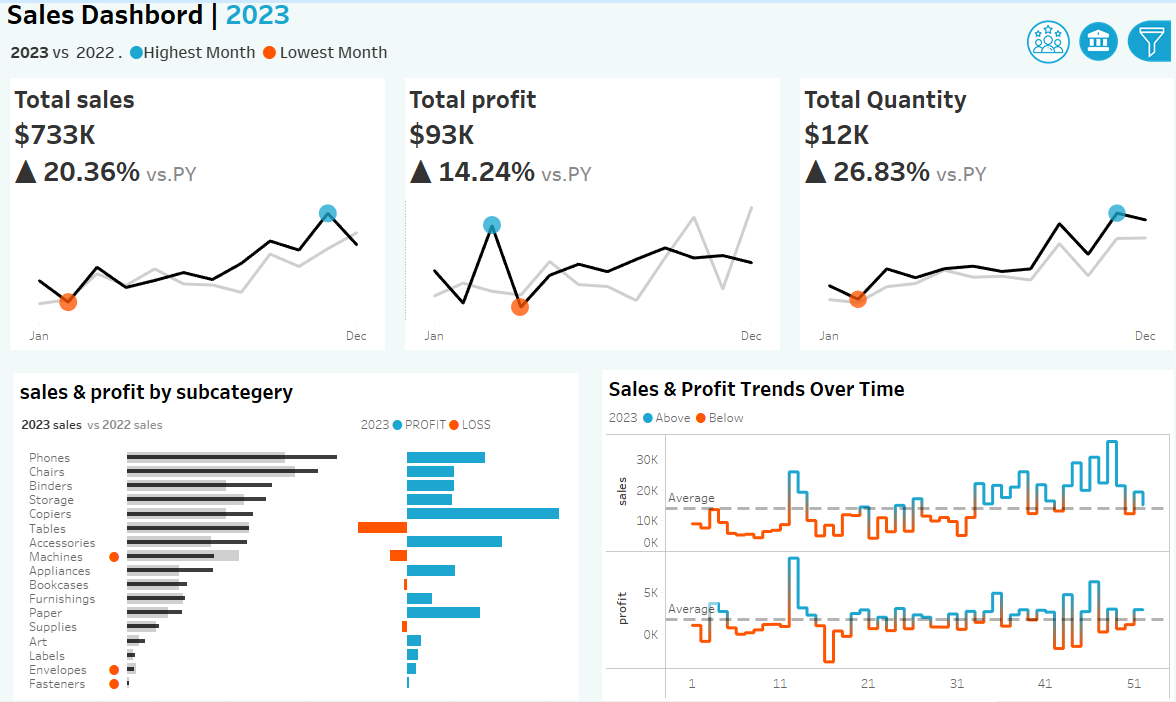

The page's visual inventory and layout, read from the dashboard file:
{"tool":"tableau","page":{"name":"sales dashbord","canvas":[1200,750],"ordinal":1},"visuals":[{"type":"text","box":[8,8,1184,41]},{"type":"dashboard-object","box":[1030,25.3,52,62.8]},{"type":"dashboard-object","box":[1082,25.3,48,62.8]},{"type":"dashboard-object","box":[1130,25.3,53,62.8]},{"type":"worksheet","title":"kpi for sub title","mark":"Automatic","box":[8,48.5,1184,34.9]},{"type":"worksheet","title":"kpi sales","mark":"Automatic","rows":["Calculation_1100285736253186052"],"cols":["Order Date"],"box":[8,83,395,292]},{"type":"worksheet","title":"kpi profit","mark":"Line","rows":["min/max sales (copy)_1100285736272588811"],"cols":["Order Date"],"box":[403,83,395,292]},{"type":"worksheet","title":"kpi quantity","mark":"Line","rows":["min/max sales (copy)_354377048314789896"],"cols":["Order Date"],"box":[798,83,394,292]},{"type":"parameter","param":"[Parameters].[Parameter 1]","box":[1000,96.6,192,52]},{"type":"filter","title":"kpi sales","param":"[federated.1z0qqhl03mdd3e151hpz61c4dv0s].[none:Sub-Category:nk]","box":[1000,148.6,192,52]},{"type":"filter","title":"kpi sales","param":"[federated.1z0qqhl03mdd3e151hpz61c4dv0s].[none:Region:nk]","box":[1000,200.6,192,52]},{"type":"filter","title":"kpi sales","param":"[federated.1z0qqhl03mdd3e151hpz61c4dv0s].[none:State:nk]","box":[1000,252.6,192,52]},{"type":"filter","title":"kpi sales","param":"[federated.1z0qqhl03mdd3e151hpz61c4dv0s].[none:City:nk]","box":[1000,304.6,192,52]},{"type":"filter","title":"weekly trends","param":"[federated.1z0qqhl03mdd3e151hpz61c4dv0s].[none:Category:nk]","box":[1000,356.6,192,52]},{"type":"text","box":[610,385,572,35]},{"type":"text","box":[21,388,566,35]},{"type":"text","box":[610,420,572,25]},{"type":"worksheet","title":"legents od subcategery","mark":"Automatic","box":[21,423,341,32]},{"type":"text","box":[362,423,225,32]},{"type":"worksheet","title":"weekly trends","mark":"Automatic","rows":["Calculation_1100285736230047745","Calculation_1100285736270159881"],"cols":["Order Date"],"box":[610,445,572,273]},{"type":"worksheet","title":"profit and loss","mark":"Bar","rows":["Sub-Category","Calculation_354377048329064463"],"cols":["cy_sales (copy)_1100285736230932482","Calculation_1100285736230047745","Calculation_1100285736270159881"],"box":[21,455,566,260]}]}

Visuals, with their boxes on the page's 1200x750 design canvas (x1, y1, x2, y2). These are canvas units, not pixel positions in the 1176x702 screenshot, which may show the page scaled, cropped or inside an application window:
text: (8,8,1192,49)
dashboard-object: (1030,25,1082,88)
dashboard-object: (1082,25,1130,88)
dashboard-object: (1130,25,1183,88)
"kpi for sub title" worksheet: (8,48,1192,83)
"kpi sales" worksheet: (8,83,403,375)
"kpi profit" worksheet (Line marks): (403,83,798,375)
"kpi quantity" worksheet (Line marks): (798,83,1192,375)
parameter: (1000,97,1192,149)
"kpi sales" filter: (1000,149,1192,201)
"kpi sales" filter: (1000,201,1192,253)
"kpi sales" filter: (1000,253,1192,305)
"kpi sales" filter: (1000,305,1192,357)
"weekly trends" filter: (1000,357,1192,409)
text: (610,385,1182,420)
text: (21,388,587,423)
text: (610,420,1182,445)
"legents od subcategery" worksheet: (21,423,362,455)
text: (362,423,587,455)
"weekly trends" worksheet: (610,445,1182,718)
"profit and loss" worksheet (Bar marks): (21,455,587,715)
